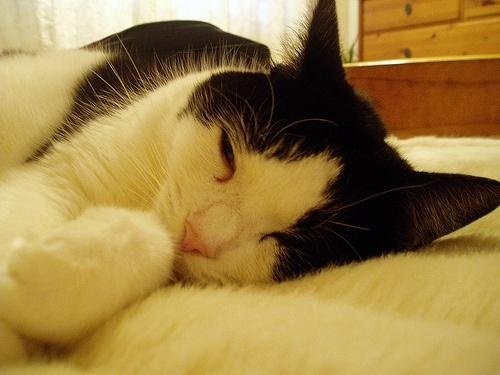cat: (3, 2, 499, 350)
